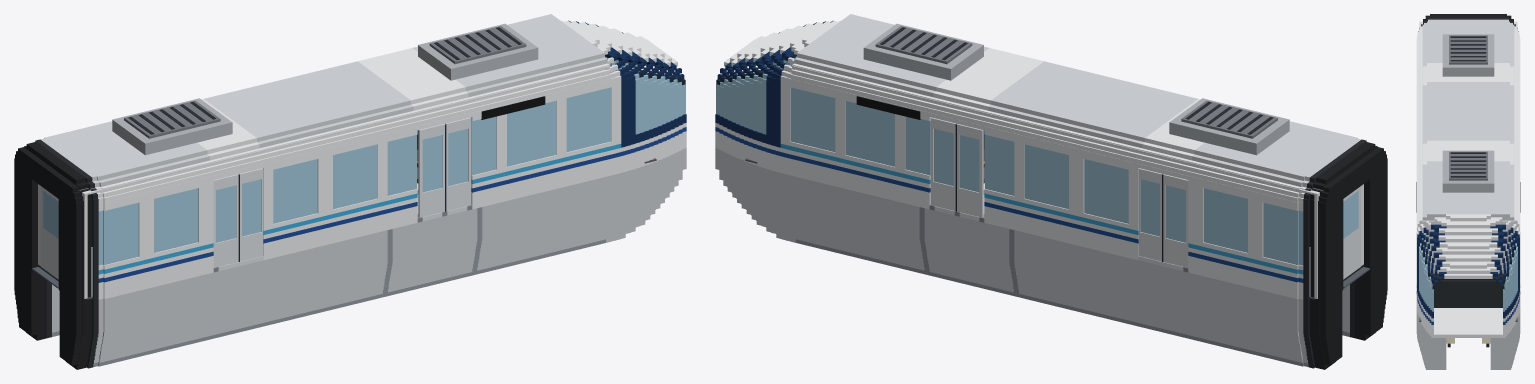
File: osaka_front.obj
The picture shows the model from 3 angles, left to right: view 1: azimuth 30°, elevation 25°; view 2: azimuth 150°, elevation 25°; view 3: azimuth 270°, elevation 25°; orthographic projection. The views are drawn at different scales.
Visible parts, largest first — view 1: SHELL, SHELL_diaphragm, SHELL_roof, EXTERNAL_DOOR_9_CG_DR2_TOGGLE_TL_-0.59_X, EXTERNAL_DOOR_3_CG_DR1_TOGGLE_TL_-0.59_X, EXTERNAL_DOOR_10_CG_DR2_TOGGLE_TL_0.59_X, EXTERNAL_DOOR_4_CG_DR1_TOGGLE_TL_0.59_X, SHELL_ceiling, CONNECTING_DOOR_1_CG_CR_TOGGLE_TL_0.98_Z, SHELL_end, SHELL_sign; view 2: SHELL, SHELL_diaphragm, SHELL_roof, EXTERNAL_DOOR_12_CG_DL2_TOGGLE_TL_-0.59_X, EXTERNAL_DOOR_6_CG_DL1_TOGGLE_TL_-0.59_X, EXTERNAL_DOOR_13_CG_DL2_TOGGLE_TL_0.59_X, EXTERNAL_DOOR_7_CG_DL1_TOGGLE_TL_0.59_X, SHELL_ceiling, CONNECTING_DOOR_1_CG_CR_TOGGLE_TL_0.98_Z, SHELL_end, SHELL_sign; view 3: SHELL, SHELL_roof, SHELL_desk, SHELL_ceiling, SHELL_cabwall, HEADLIGHT_1.
Boxes of the visible parts, x1,y1,x2,y2 form: SHELL: (24, 14, 686, 369); SHELL_diaphragm: (14, 147, 82, 365); SHELL_roof: (112, 23, 538, 155); EXTERNAL_DOOR_9_CG_DR2_TOGGLE_TL_-0.59_X: (418, 123, 446, 217); EXTERNAL_DOOR_3_CG_DR1_TOGGLE_TL_-0.59_X: (213, 174, 239, 267); EXTERNAL_DOOR_10_CG_DR2_TOGGLE_TL_0.59_X: (445, 117, 471, 211); EXTERNAL_DOOR_4_CG_DR1_TOGGLE_TL_0.59_X: (239, 168, 263, 261); SHELL_ceiling: (83, 64, 606, 194); CONNECTING_DOOR_1_CG_CR_TOGGLE_TL_0.98_Z: (41, 186, 58, 279); SHELL_end: (38, 184, 87, 298); SHELL_sign: (481, 96, 545, 119); SHELL: (715, 14, 1377, 369); SHELL_diaphragm: (1319, 147, 1387, 365); SHELL_roof: (863, 23, 1289, 155); EXTERNAL_DOOR_12_CG_DL2_TOGGLE_TL_-0.59_X: (955, 124, 983, 217); EXTERNAL_DOOR_6_CG_DL1_TOGGLE_TL_-0.59_X: (1162, 174, 1188, 267); EXTERNAL_DOOR_13_CG_DL2_TOGGLE_TL_0.59_X: (930, 117, 956, 211); EXTERNAL_DOOR_7_CG_DL1_TOGGLE_TL_0.59_X: (1138, 168, 1162, 261); SHELL_ceiling: (795, 64, 1318, 194); CONNECTING_DOOR_1_CG_CR_TOGGLE_TL_0.98_Z: (1343, 186, 1360, 279); SHELL_end: (1314, 184, 1363, 298); SHELL_sign: (856, 96, 920, 119); SHELL: (1416, 14, 1520, 369); SHELL_roof: (1442, 34, 1494, 192); SHELL_desk: (1429, 273, 1507, 307); SHELL_ceiling: (1419, 22, 1517, 219); SHELL_cabwall: (1419, 220, 1517, 273); HEADLIGHT_1: (1446, 338, 1490, 343).
Bounding box in the file's own units: 15.56 × 4.9 × 2.92.
Materials: 1 (1 with a texture image).
